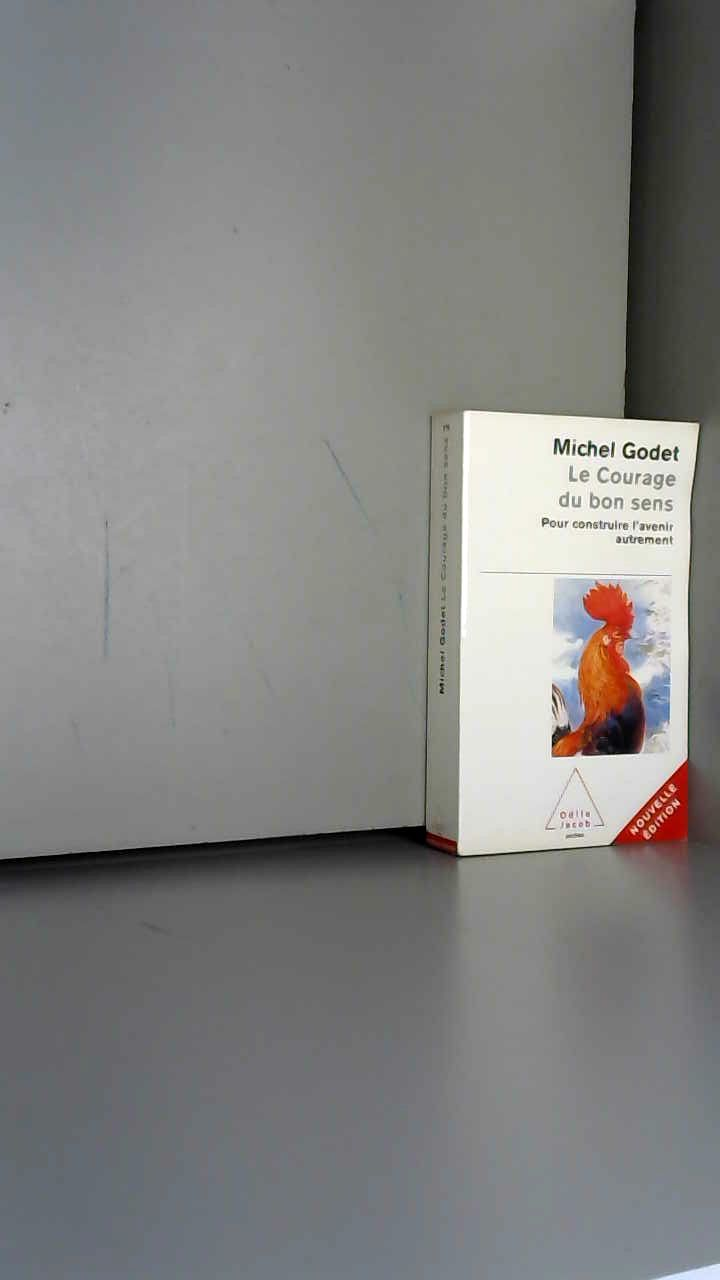book: (430, 380, 717, 871)
